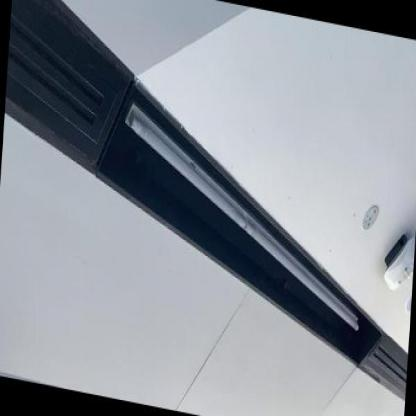light_off: (105, 90, 379, 344)
